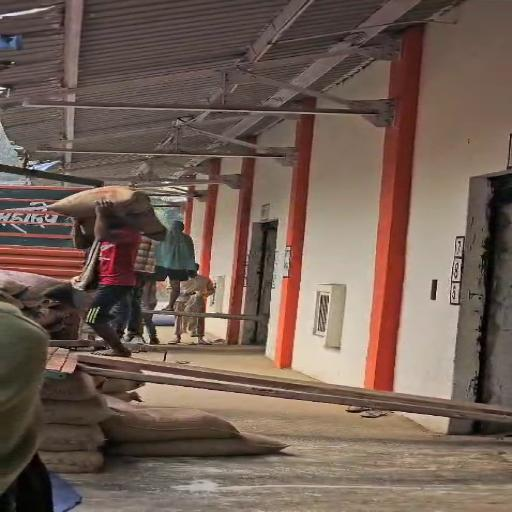bag: (50, 185, 175, 241)
